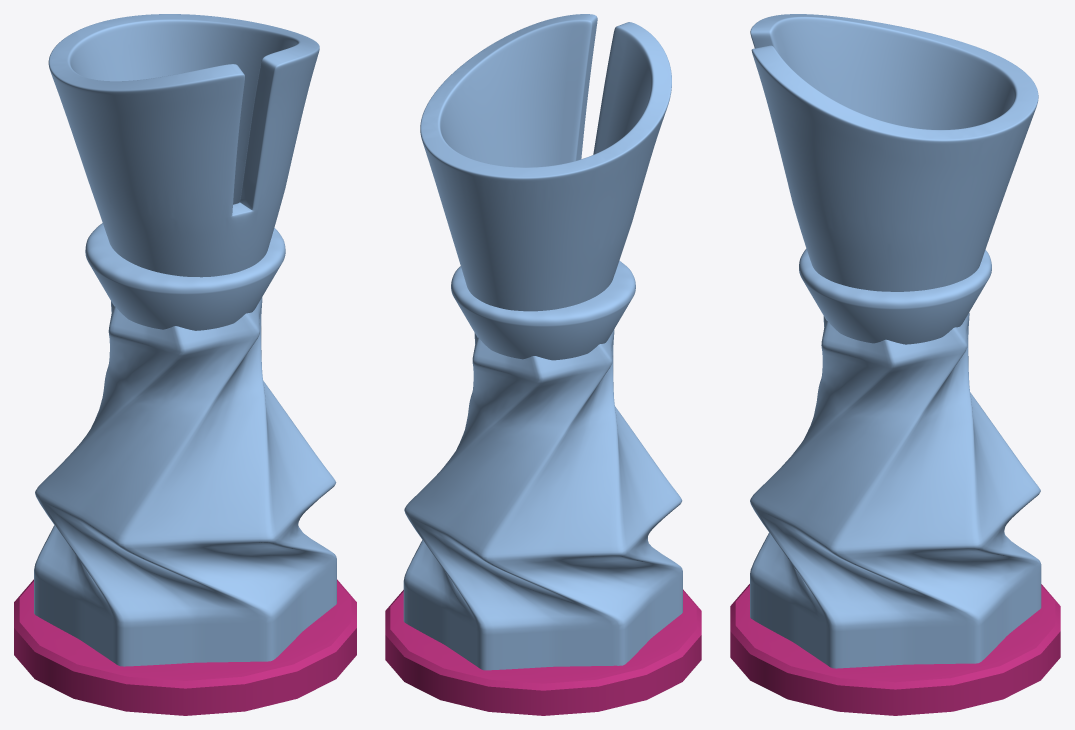
The model's file is bishop.glb.
3 renders of one model, left to right at view 1: azimuth 30°, elevation 25°; view 2: azimuth 150°, elevation 25°; view 3: azimuth 270°, elevation 25°, orthographic. The views are drawn at different scales.
Visible parts, largest first — view 1: Object075, Star028, Cylinder023; view 2: Object075, Star028, Cylinder023; view 3: Object075, Star028, Cylinder023.
Part boxes in pixels (<box>): Object075: <box>34,297,336,666</box>; Star028: <box>48,14,319,330</box>; Cylinder023: <box>14,579,356,715</box>; Object075: <box>403,329,682,670</box>; Star028: <box>420,14,671,360</box>; Cylinder023: <box>385,589,701,715</box>; Object075: <box>750,313,1041,668</box>; Star028: <box>750,14,1038,344</box>; Cylinder023: <box>730,584,1060,715</box>.
Bounding box in the file's own units: 0.0377 × 0.0752 × 0.0371.
